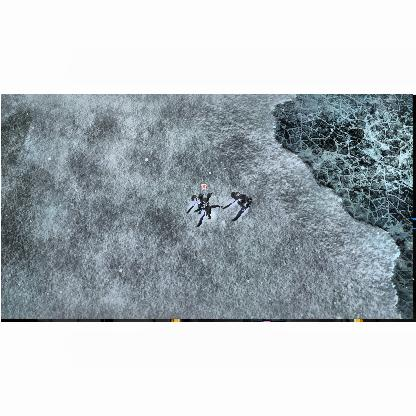caliana: (223, 192, 251, 222), (186, 193, 204, 214)
